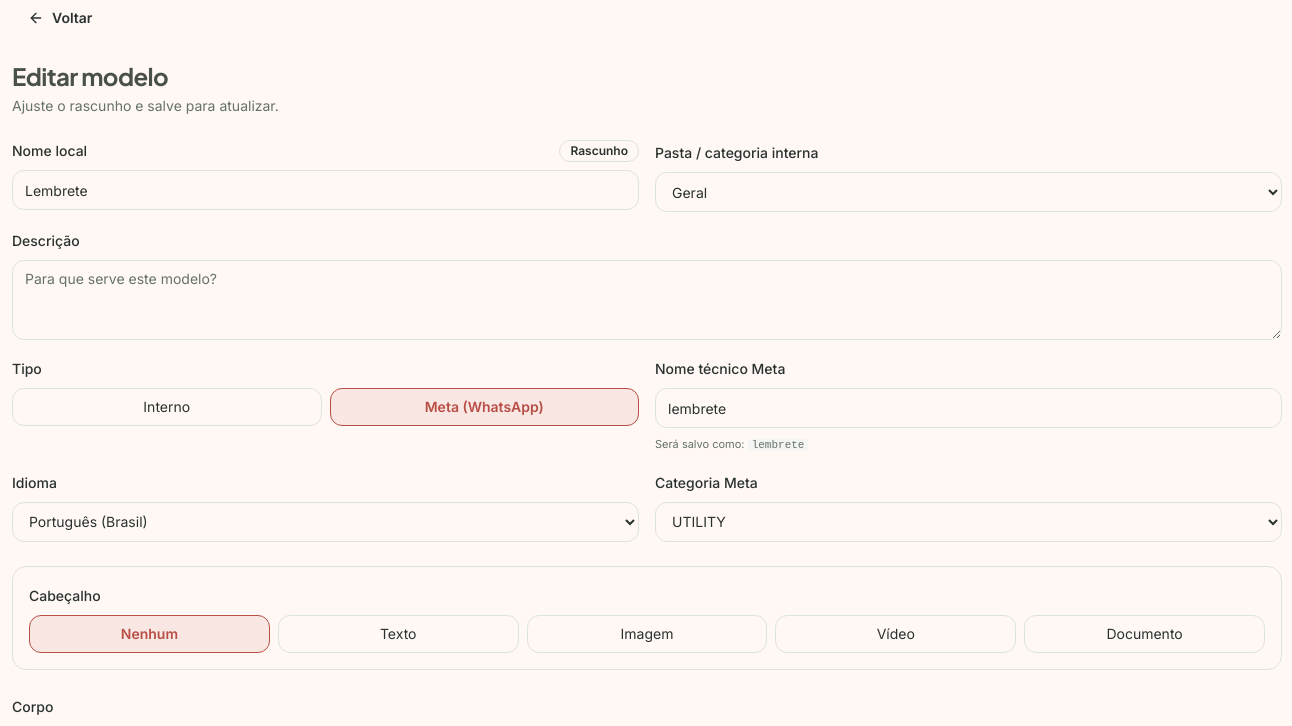
Scenario: MessageTemplateEdit media header › does not render a manual header media URL input
The width and height of the screenshot is (1292, 726).
Click the radio button "Imagem" at (647, 634), box [527,614,767,652]
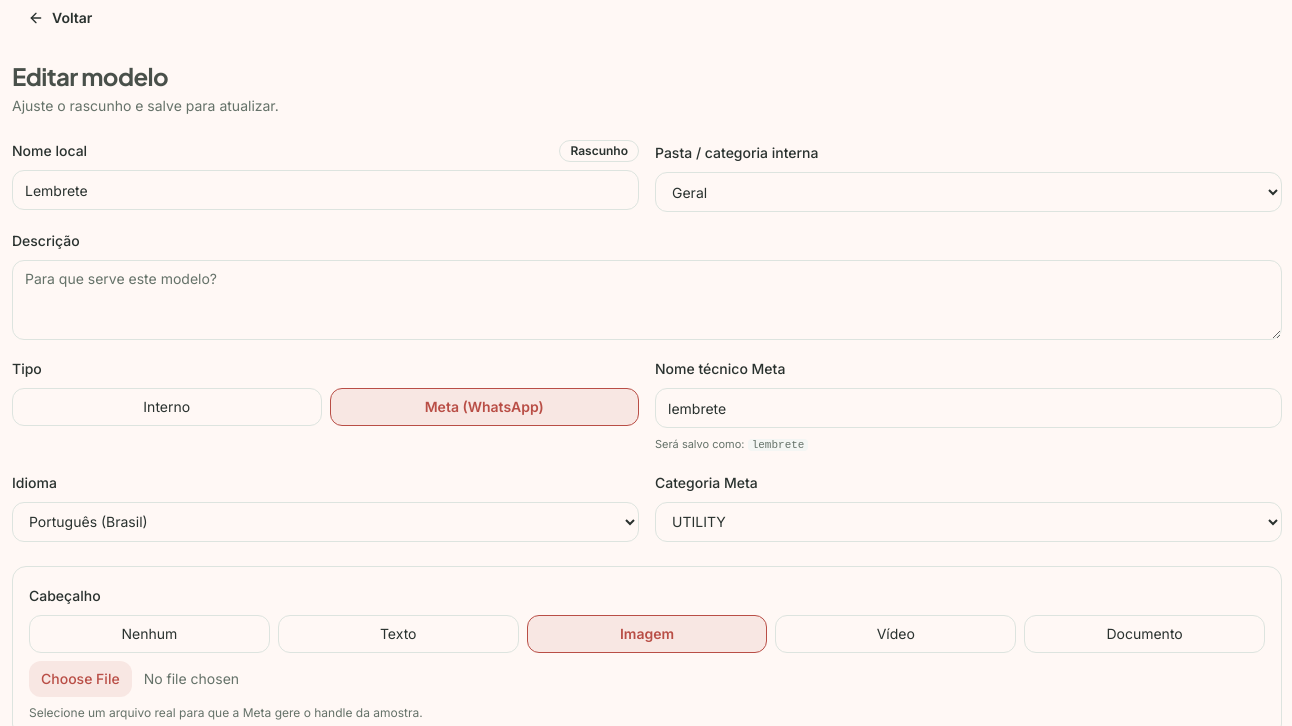
Check: the file field named "Amostra de mídia do cabeçalho" is shown, box [29,660,1265,696]
